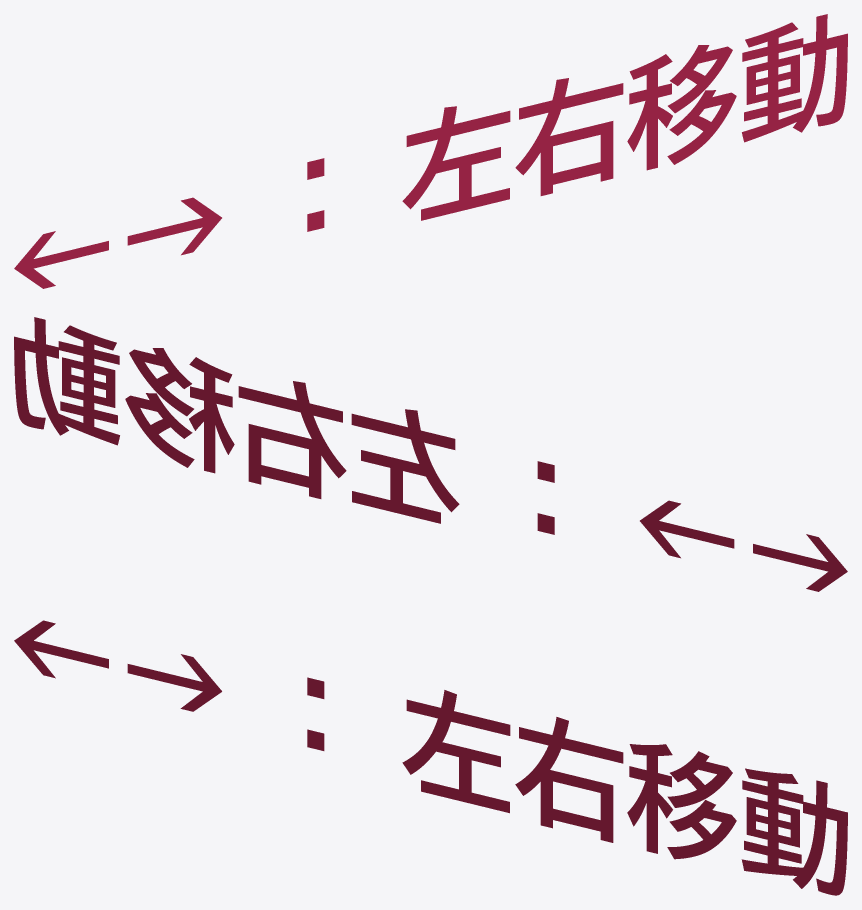
Rendered from leftAndRightKeysText.obj.
The picture shows the model from 3 angles, top to bottom: view 1: azimuth 30°, elevation 25°; view 2: azimuth 150°, elevation 25°; view 3: azimuth 330°, elevation 25°; orthographic projection.
Visible parts, largest first — view 1: テキスト; view 2: テキスト; view 3: テキスト.
Boxes of the visible parts, x1,y1,x2,y2 form: テキスト: (14, 14, 847, 288); テキスト: (14, 317, 847, 591); テキスト: (14, 620, 847, 895).
Bounding box in the file's own units: 7.38 × 0.9653 × 0.
